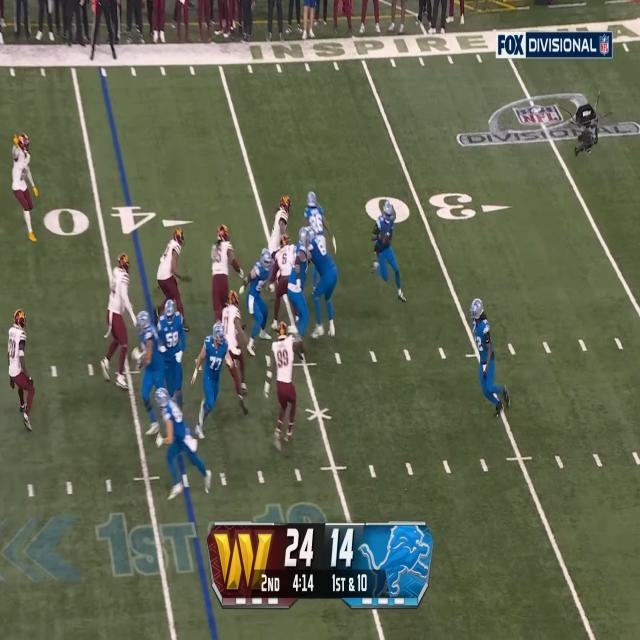Ball: (381, 231, 388, 247)
